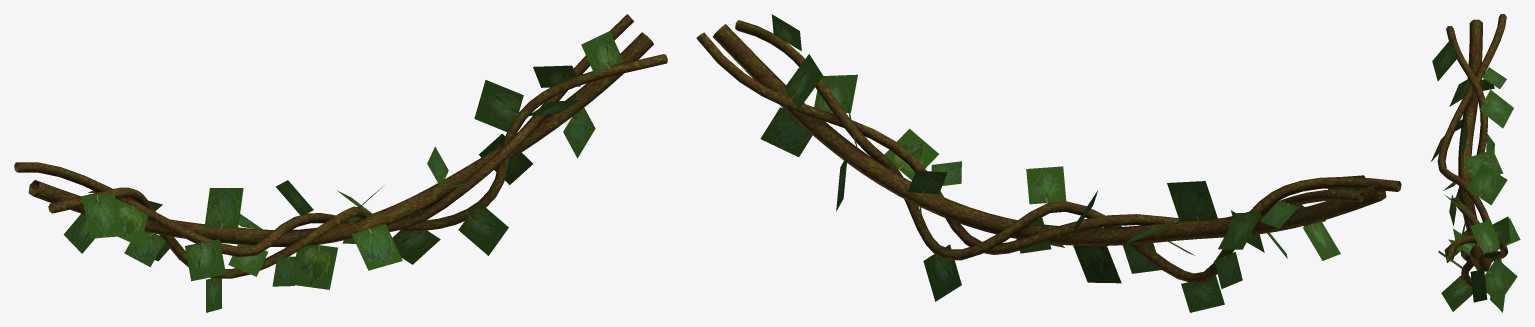
The model's file is sb_obj_nature010_Jungles02e.fbx.
3 renders of one model, left to right at view 1: azimuth 30°, elevation 25°; view 2: azimuth 150°, elevation 25°; view 3: azimuth 270°, elevation 25°, orthographic. The views are drawn at different scales.
Parts seen in each view (by area): view 1: leaf02e, sb_obj_nature010_Jungles02e; view 2: sb_obj_nature010_Jungles02e, leaf02e; view 3: leaf02e, sb_obj_nature010_Jungles02e.
Boxes of the visible parts, x1,y1,x2,y2 form: leaf02e: (63, 31, 623, 312); sb_obj_nature010_Jungles02e: (14, 14, 667, 278); sb_obj_nature010_Jungles02e: (696, 20, 1401, 283); leaf02e: (760, 14, 1365, 312); leaf02e: (1431, 38, 1520, 312); sb_obj_nature010_Jungles02e: (1437, 14, 1508, 286).
Bounding box in the file's own units: 4.15 × 1.33 × 0.6811.
